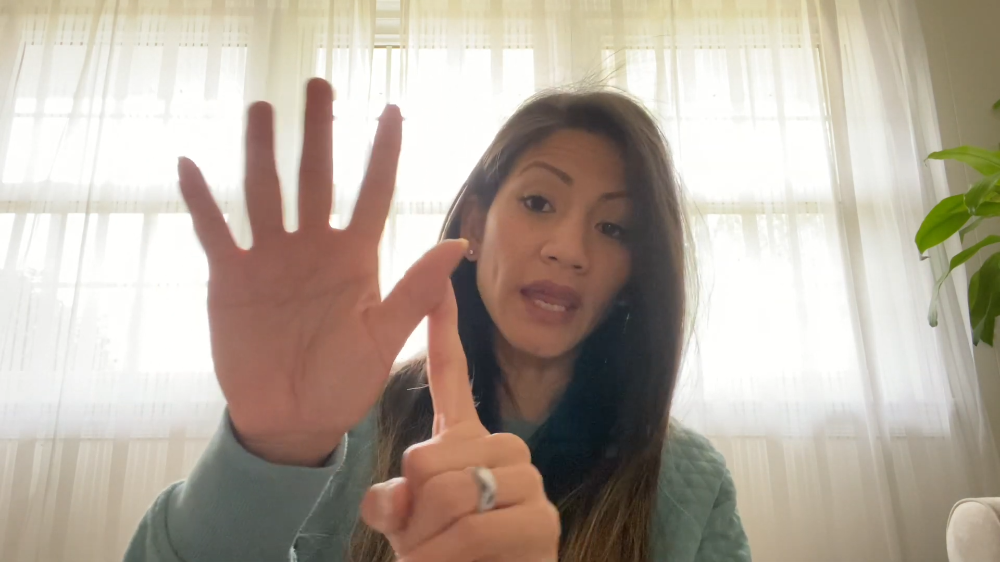hello: (179, 75, 470, 446)
